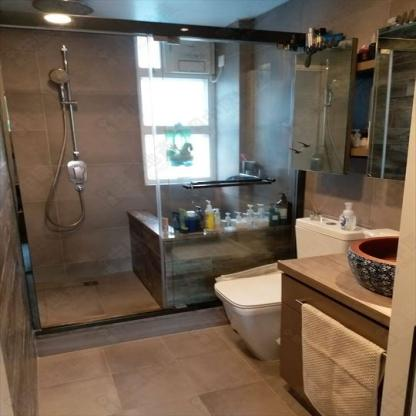Thermo Ventilator: (162, 41, 214, 75)
Toilet: (214, 271, 280, 362), (293, 214, 368, 259)
Toilet Sink: (348, 236, 397, 298)
Water Cubicle: (7, 9, 302, 329)
